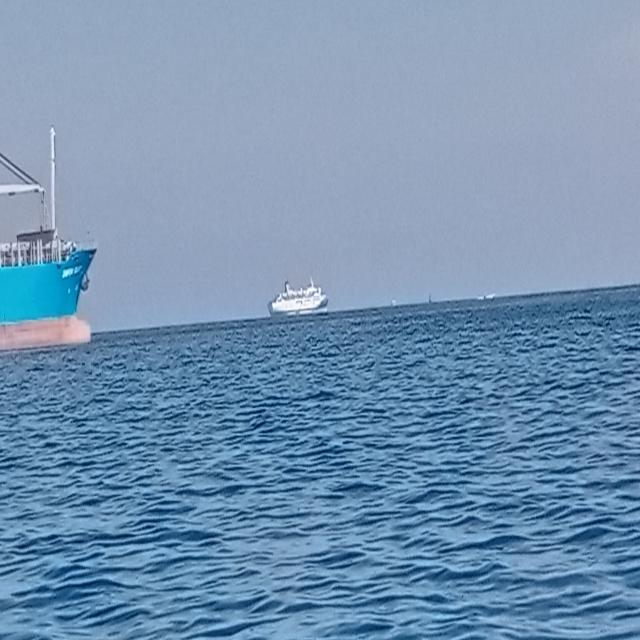PassengerShip: (236, 232, 370, 346)
